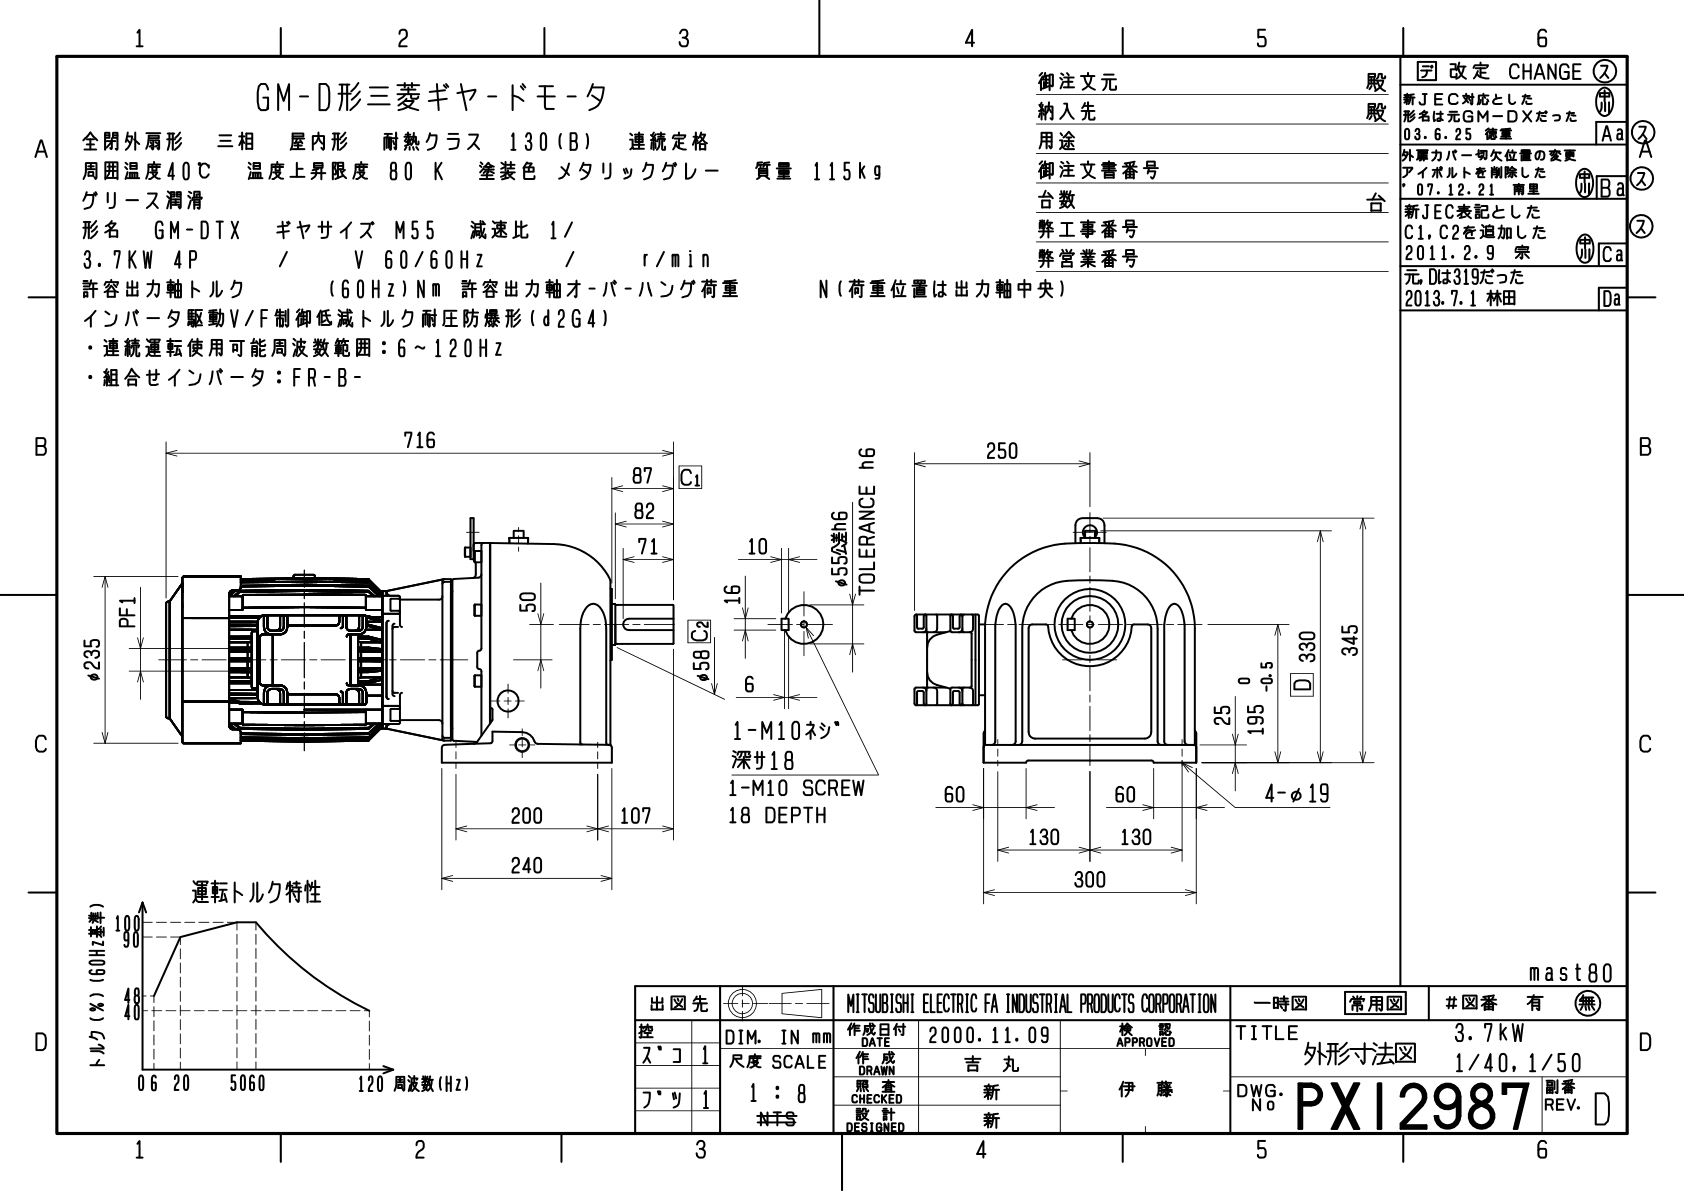GM_D_VF制御屋内_三相_脚: (64, 418, 1395, 949)
